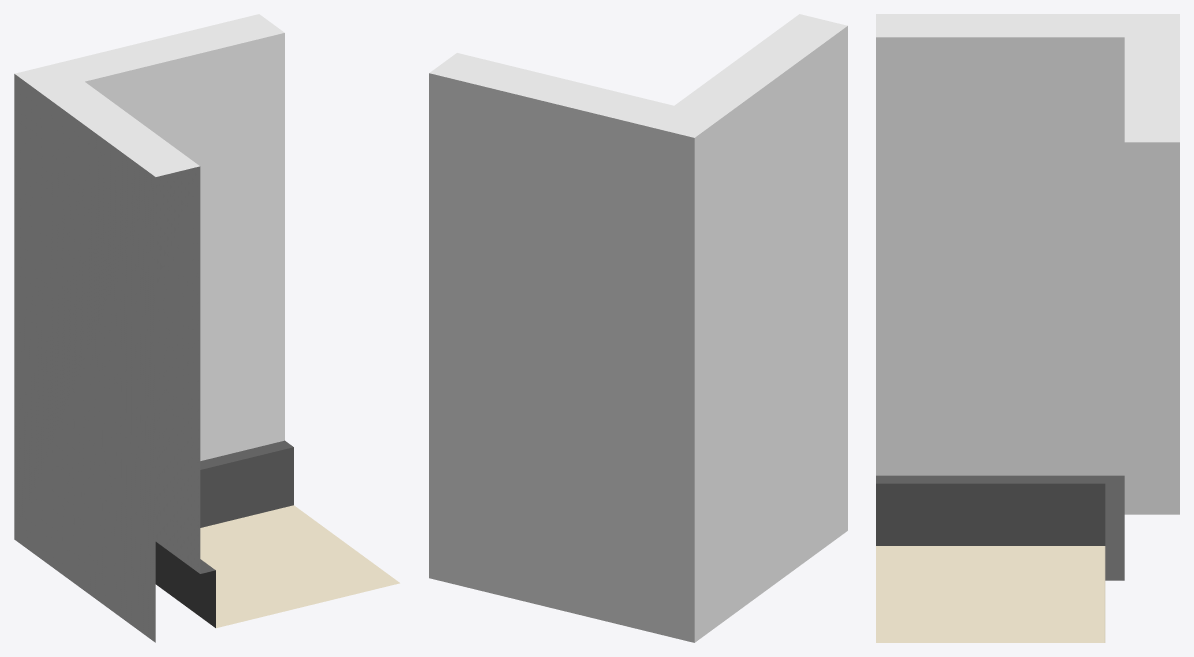
Rendered from E_Wall_L_Shape.fbx.
The picture shows the model from 3 angles, left to right: view 1: azimuth 30°, elevation 25°; view 2: azimuth 150°, elevation 25°; view 3: azimuth 270°, elevation 25°; orthographic projection. The views are drawn at different scales.
Visible parts, largest first — view 1: E_Wall_L_Shape; view 2: E_Wall_L_Shape; view 3: E_Wall_L_Shape.
Part boxes in pixels (bbox=[...]): E_Wall_L_Shape: bbox=[14, 14, 399, 642]; E_Wall_L_Shape: bbox=[429, 14, 847, 642]; E_Wall_L_Shape: bbox=[876, 14, 1179, 642].
Bounding box in the file's own units: 110 × 200 × 110.
